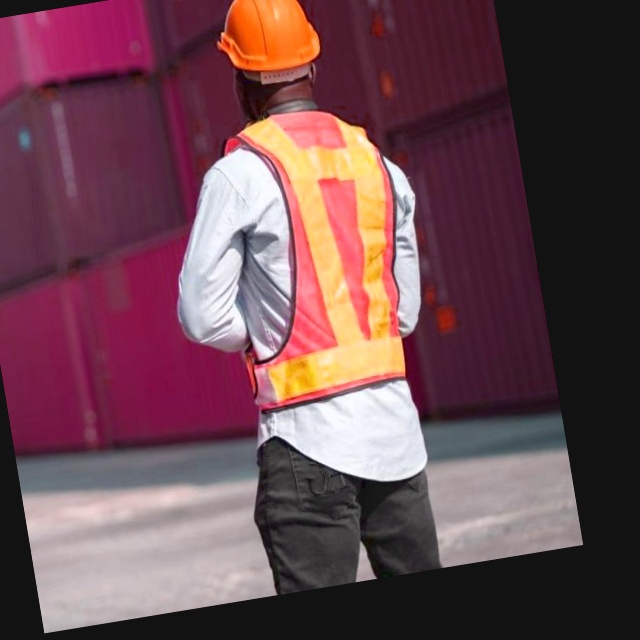Con_Casco: (211, 0, 326, 116)
Con_Chaleco: (206, 98, 421, 407)
